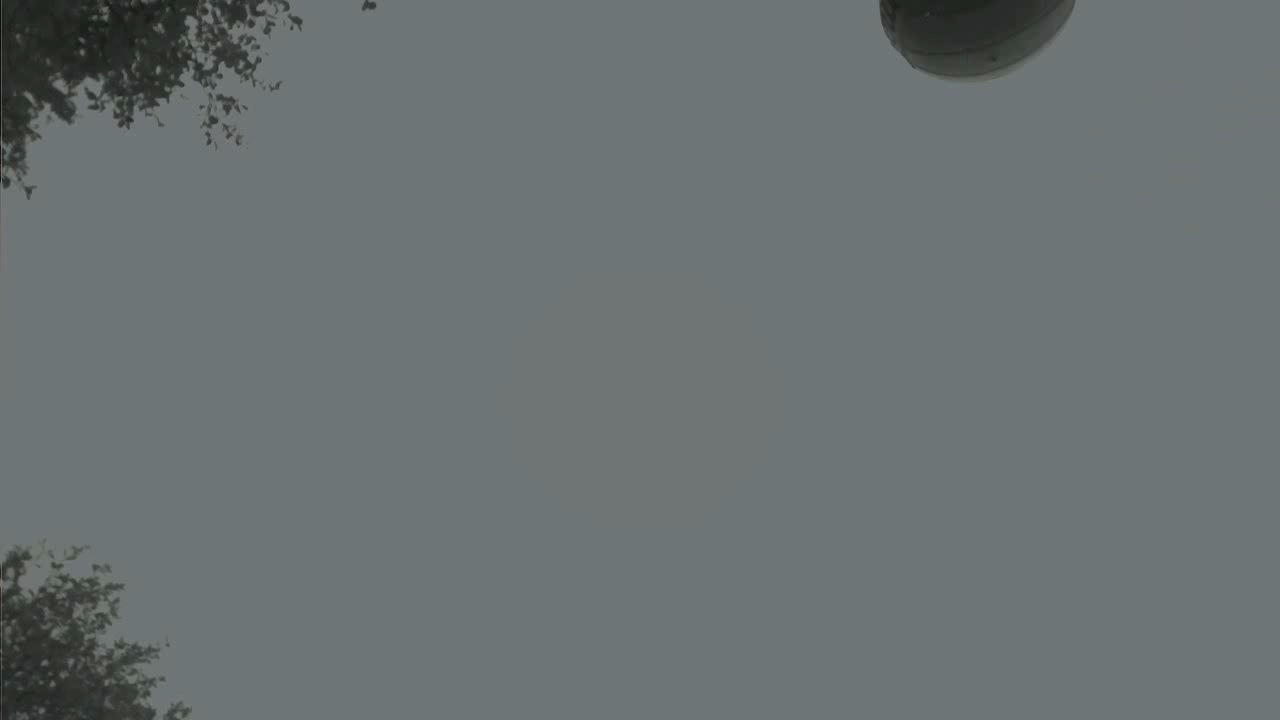Football-Spotter: (880, 0, 1074, 78)
